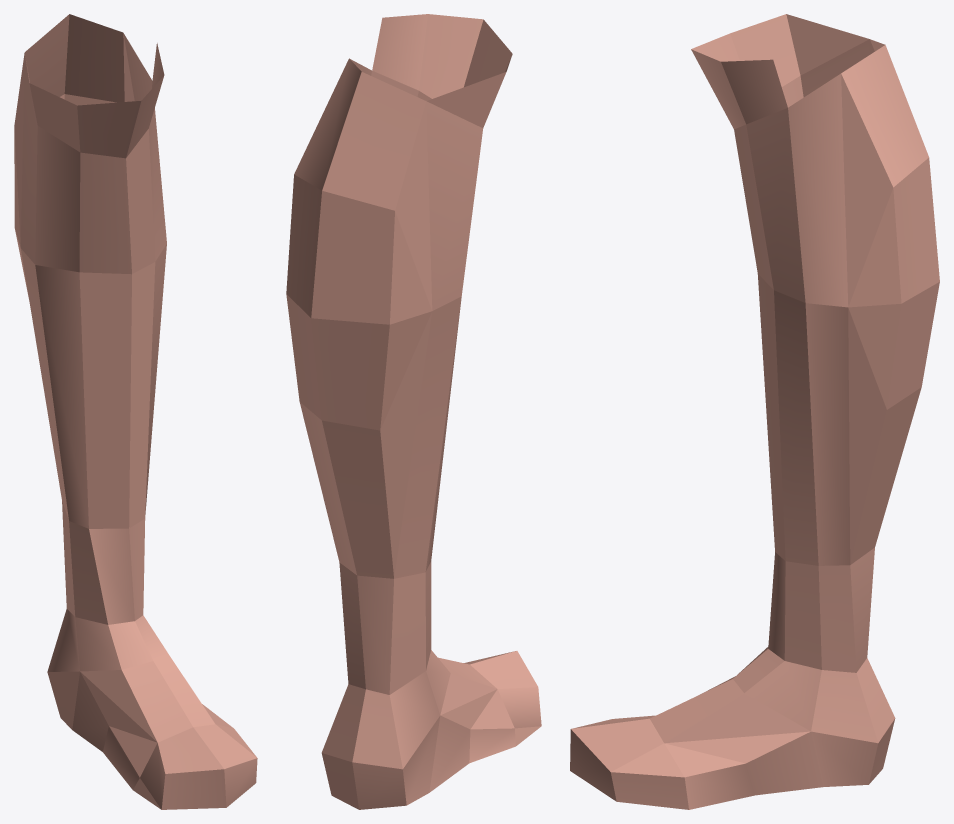
Rendered from cutrmumlleg.fbx.
3 renders of one model, left to right at view 1: azimuth 30°, elevation 25°; view 2: azimuth 150°, elevation 25°; view 3: azimuth 270°, elevation 25°, orthographic. The views are drawn at different scales.
Visible parts, largest first — view 1: lleg; view 2: lleg; view 3: lleg.
Part boxes in pixels (x1=…): lleg: x1=14, y1=14, x2=257, y2=809; lleg: x1=286, y1=14, x2=541, y2=809; lleg: x1=570, y1=14, x2=939, y2=809.
Bounding box in the file's own units: 14.84 × 61.75 × 28.3.
